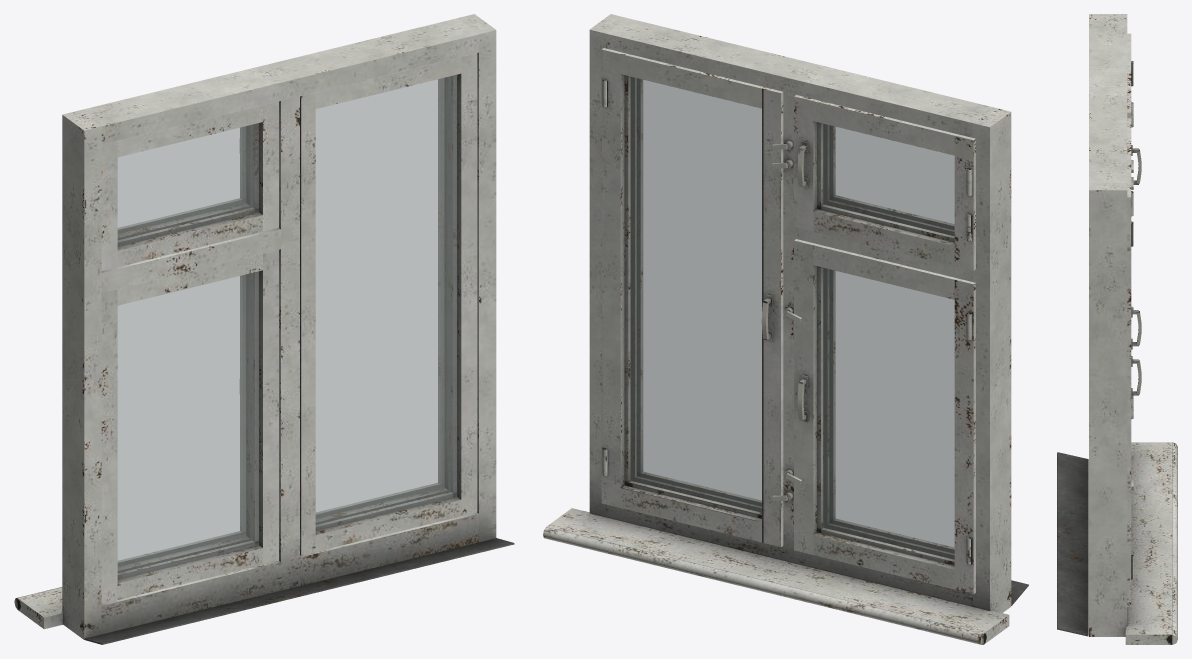
Rendered from win_2_kitchen_web.glb.
The picture shows the model from 3 angles, left to right: view 1: azimuth 30°, elevation 25°; view 2: azimuth 150°, elevation 25°; view 3: azimuth 270°, elevation 25°; orthographic projection. The views are drawn at different scales.
Parts seen in each view (by area): view 1: Win2Kitchen_Body, Glass_Sash_L_out, Glass_Sash_L_in, Glass_Sash_R_out, Glass_Sash_R_in, Sash_L_Mesh, Sash_R_Mesh, Fort_R_Mesh, Glass_Fort_R_out, Glass_Fort_R_in; view 2: Win2Kitchen_Body, Glass_Sash_L_in, Glass_Sash_L_out, Sash_L_Mesh, Glass_Sash_R_in, Glass_Sash_R_out, Sash_R_Mesh, Fort_R_Mesh, Glass_Fort_R_in, Glass_Fort_R_out; view 3: Win2Kitchen_Body, Sash_L_Mesh, Fort_R_Mesh, Sash_R_Mesh.
Part boxes in pixels (<box>): Win2Kitchen_Body: <box>14,14,514,644</box>; Glass_Sash_L_out: <box>316,75,456,530</box>; Glass_Sash_L_in: <box>316,78,444,516</box>; Glass_Sash_R_out: <box>118,271,258,579</box>; Glass_Sash_R_in: <box>118,275,245,562</box>; Sash_L_Mesh: <box>300,53,477,555</box>; Sash_R_Mesh: <box>101,250,278,603</box>; Fort_R_Mesh: <box>101,101,278,270</box>; Glass_Fort_R_out: <box>118,123,258,246</box>; Glass_Fort_R_in: <box>118,127,245,229</box>; Win2Kitchen_Body: <box>543,14,1028,644</box>; Glass_Sash_L_in: <box>630,77,761,512</box>; Glass_Sash_L_out: <box>643,80,761,499</box>; Sash_L_Mesh: <box>601,48,783,546</box>; Glass_Sash_R_in: <box>823,268,954,559</box>; Glass_Sash_R_out: <box>835,271,954,546</box>; Sash_R_Mesh: <box>794,239,975,593</box>; Fort_R_Mesh: <box>794,95,975,270</box>; Glass_Fort_R_in: <box>823,124,954,235</box>; Glass_Fort_R_out: <box>835,127,954,223</box>; Win2Kitchen_Body: <box>1057,14,1177,644</box>; Sash_L_Mesh: <box>1127,118,1141,606</box>; Fort_R_Mesh: <box>1127,33,1141,184</box>; Sash_R_Mesh: <box>1131,191,1141,419</box>.
Bounding box in the file's own units: 1.42 × 1.53 × 0.3765.
2 materials, 1 textured.
